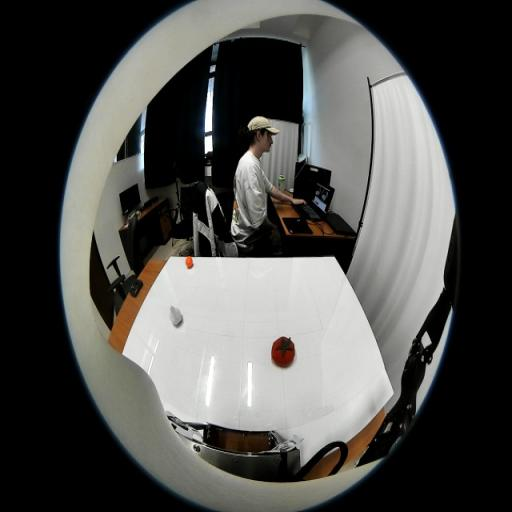Onion: (170, 305, 182, 324)
Orange: (185, 256, 193, 268)
Tomato: (272, 336, 294, 366)
